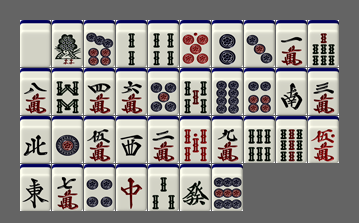0m: (308, 116, 339, 163)
0p: (180, 20, 211, 67)
0s: (180, 116, 211, 163)
1m: (276, 20, 307, 67)
1p: (52, 116, 83, 163)
1s: (52, 20, 83, 67)
1z: (20, 164, 51, 211)
2m: (148, 116, 179, 163)
2p: (212, 20, 243, 67)
2s: (116, 20, 147, 67)
2z: (276, 68, 307, 115)
3m: (308, 68, 339, 115)
3p: (244, 20, 275, 67)
3s: (148, 164, 179, 211)
3z: (116, 116, 147, 163)
4m: (84, 68, 115, 115)
4p: (84, 164, 115, 211)
4s: (148, 20, 179, 67)
4z: (20, 116, 51, 163)
5m: (84, 116, 115, 163)
5p: (148, 68, 179, 115)
5s: (180, 68, 211, 115)
5z: (20, 20, 51, 67)
6m: (116, 68, 147, 115)
6p: (244, 68, 275, 115)
6s: (244, 116, 275, 163)
6z: (180, 164, 211, 211)
7m: (52, 164, 83, 211)
7p: (84, 20, 115, 67)
7s: (308, 20, 339, 67)
7z: (116, 164, 147, 211)
8m: (20, 68, 51, 115)
8p: (212, 68, 243, 115)
8s: (52, 68, 83, 115)
9m: (212, 116, 243, 163)
9p: (212, 164, 243, 211)
9s: (276, 116, 307, 163)
